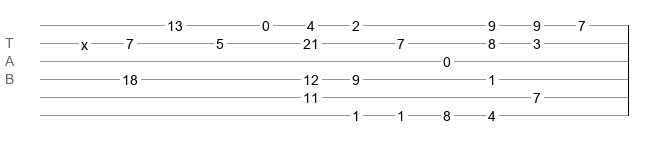0: (262, 18, 270, 28), (443, 54, 451, 64)
1: (352, 108, 360, 118), (397, 108, 405, 118), (488, 72, 496, 82)
11: (303, 90, 319, 100)
12: (303, 72, 319, 82)
13: (167, 18, 183, 28)
18: (122, 72, 138, 82)
2: (352, 18, 360, 28)
21: (303, 36, 319, 46)
3: (533, 36, 541, 46)
4: (307, 18, 315, 28), (488, 108, 496, 118)
5: (216, 36, 224, 46)
7: (126, 36, 134, 46), (397, 36, 405, 46), (533, 90, 541, 100), (578, 18, 586, 28)
8: (443, 108, 451, 118), (488, 36, 496, 46)
9: (352, 72, 360, 82), (488, 18, 496, 28), (533, 18, 541, 28)
x: (81, 37, 88, 45)
